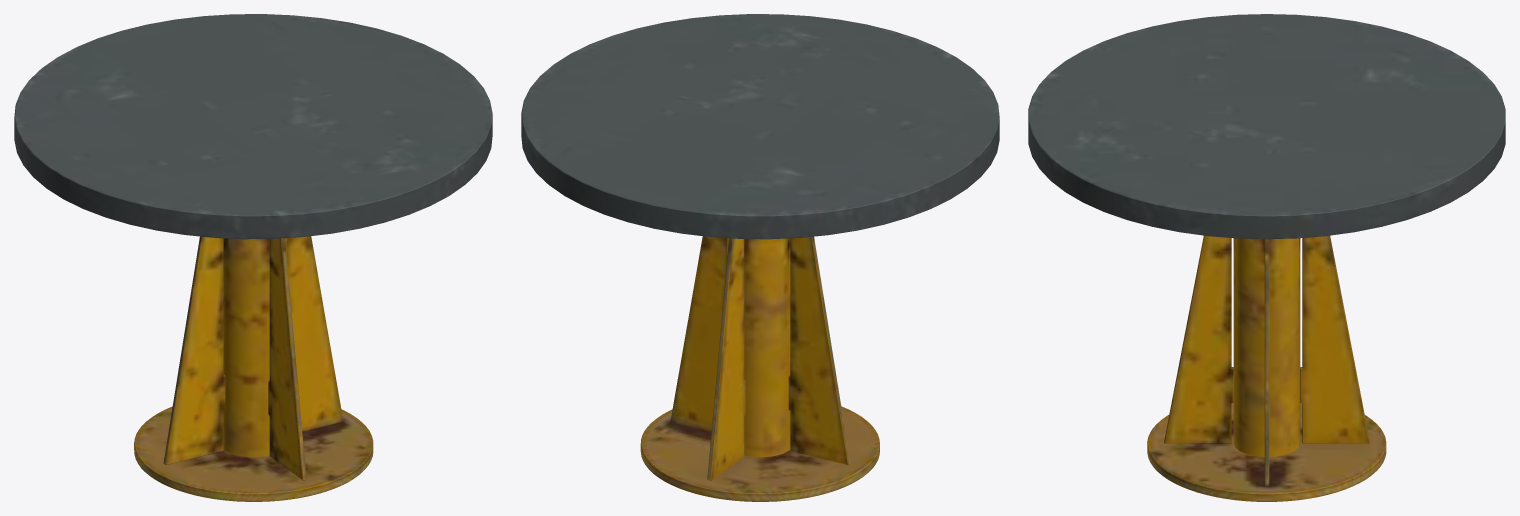
Rendered from SM_Table_95db75.glb.
3 renders of one model, left to right at view 1: azimuth 30°, elevation 25°; view 2: azimuth 150°, elevation 25°; view 3: azimuth 270°, elevation 25°, orthographic.
Bounding box in the file's own units: 1 × 0.7775 × 0.998.
1 material, 1 textured.
